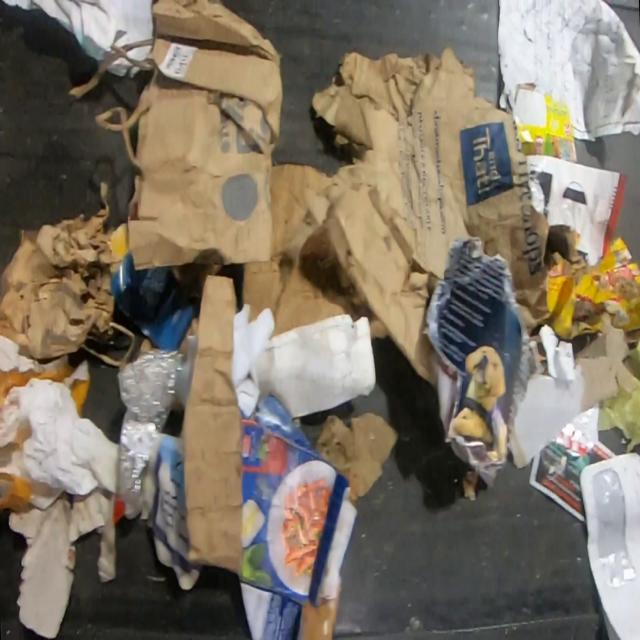cardboard: (237, 394, 360, 640), (422, 239, 537, 502), (150, 274, 243, 591), (0, 176, 138, 368), (241, 160, 389, 339), (510, 312, 636, 469), (6, 486, 118, 640), (254, 314, 378, 422), (544, 224, 640, 344), (512, 81, 579, 163)
soft_plastic: (114, 333, 198, 520), (538, 323, 576, 383), (561, 406, 600, 451)
